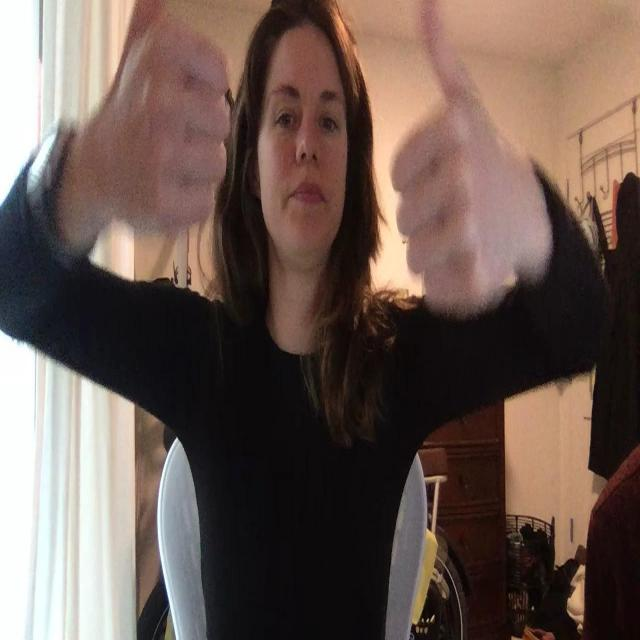face: (257, 23, 346, 262)
